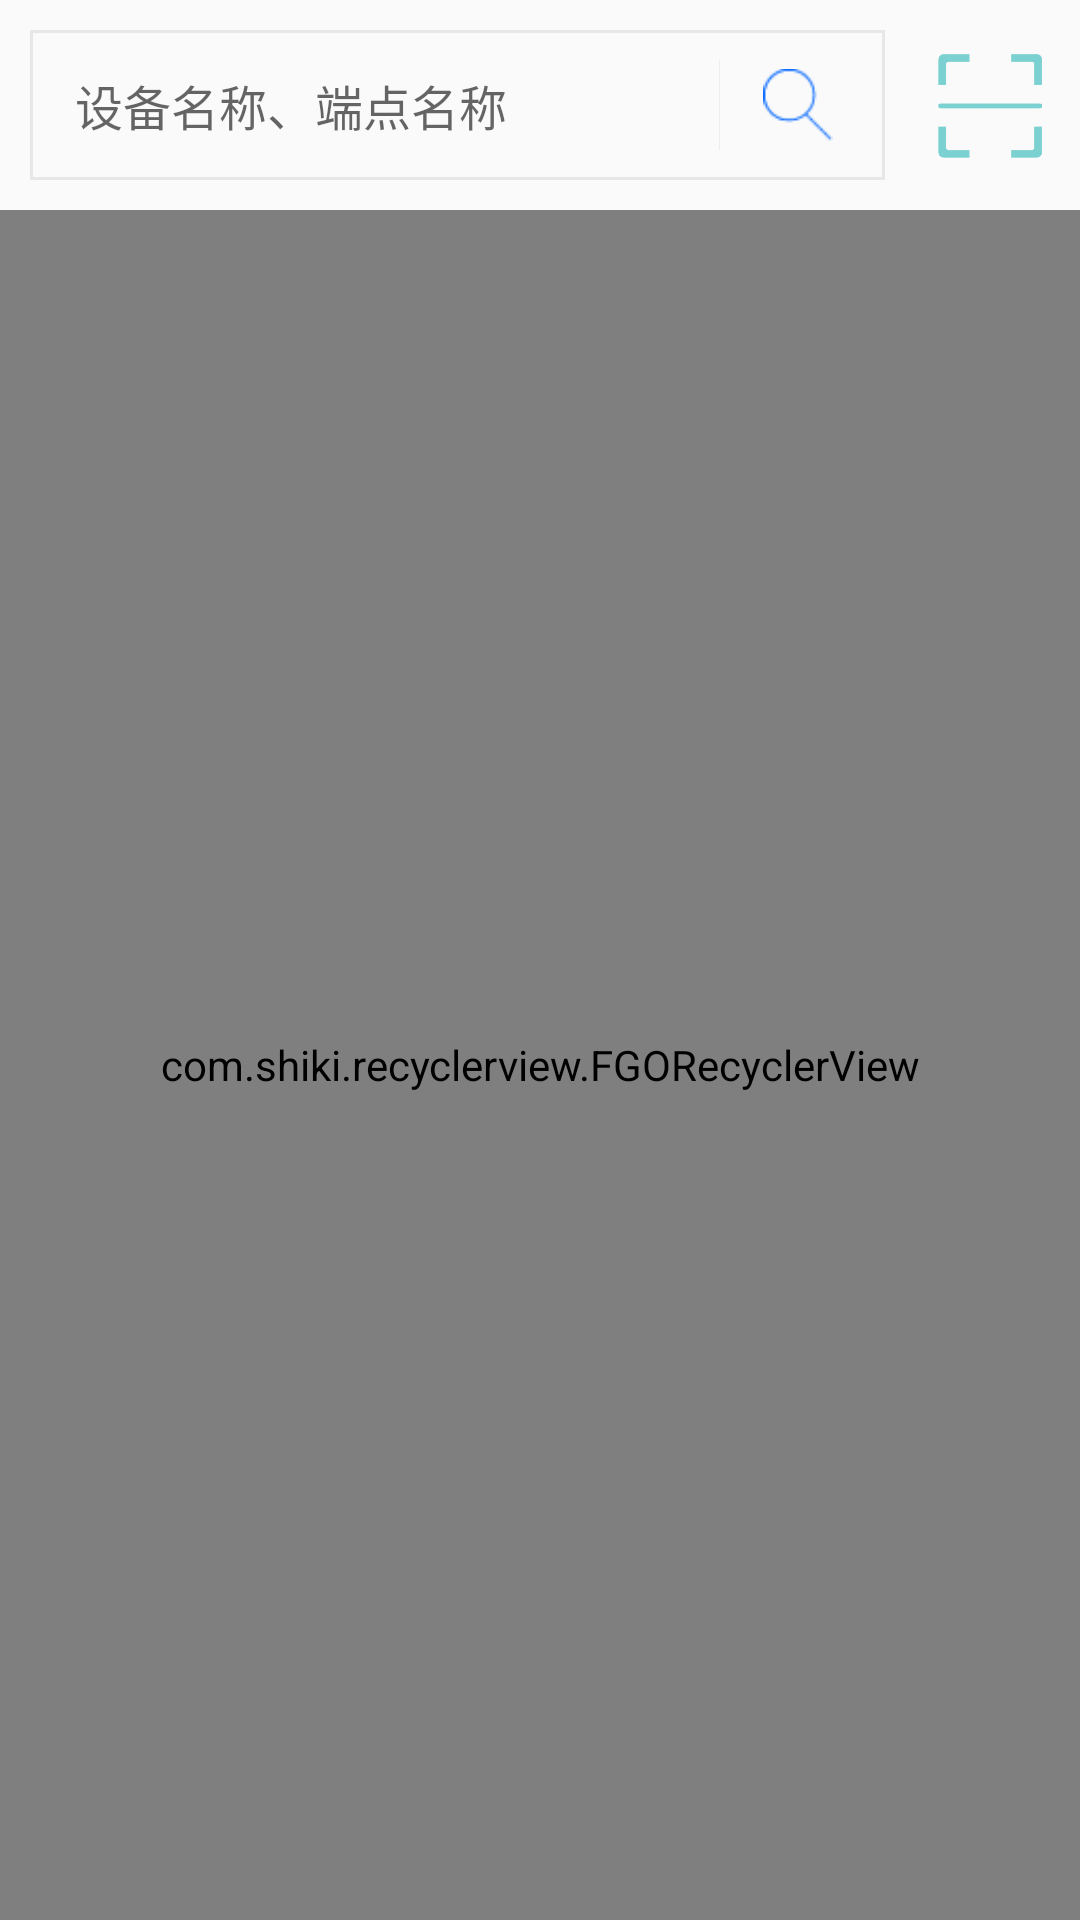

Screen size 1080px x 1920px. Icon name, then its center in pixels as point (x, y):
scan: point (990, 106)
search: point (798, 105)
